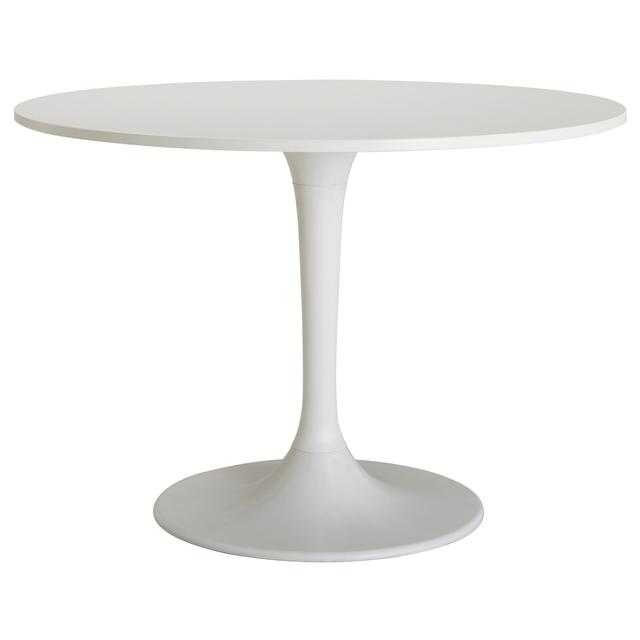obstacle: (15, 80, 624, 561)
